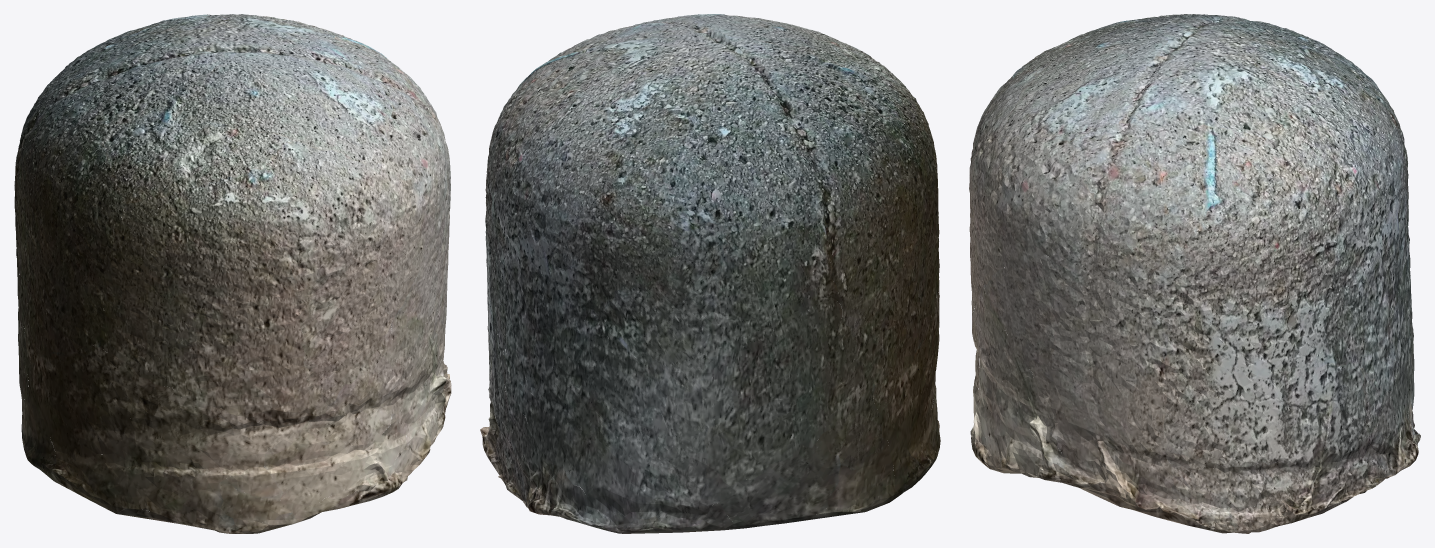
The model's file is PolyCam Rock Sample.glb.
3 views of the same model, side by side, from view 1: azimuth 30°, elevation 25°; view 2: azimuth 150°, elevation 25°; view 3: azimuth 270°, elevation 25° (orthographic). The views are drawn at different scales.
Parts seen in each view (by area): view 1: Mesh_0; view 2: Mesh_0; view 3: Mesh_0.
Part boxes in pixels (x1,y1,x2,y2): Mesh_0: [14, 14, 451, 533]; Mesh_0: [480, 14, 940, 533]; Mesh_0: [969, 14, 1420, 533].
Bounding box in the file's own units: 0.4973 × 0.4946 × 0.4999.
Materials: 1 (1 with a texture image).
